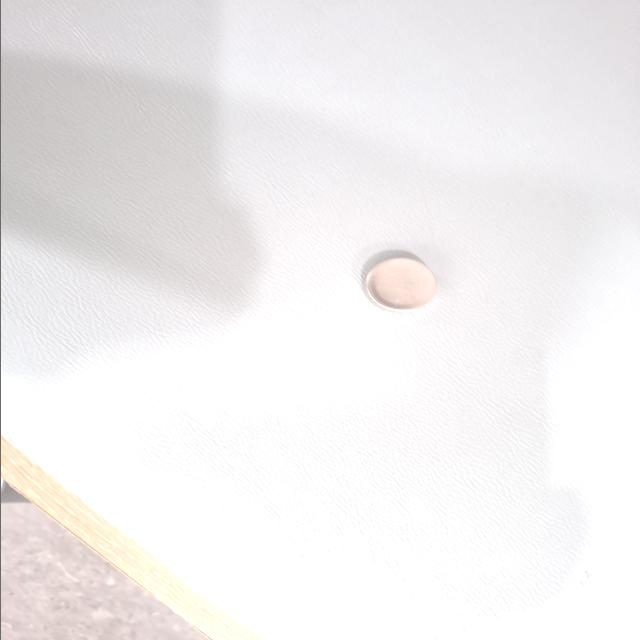COIN: (128, 154, 202, 208)
